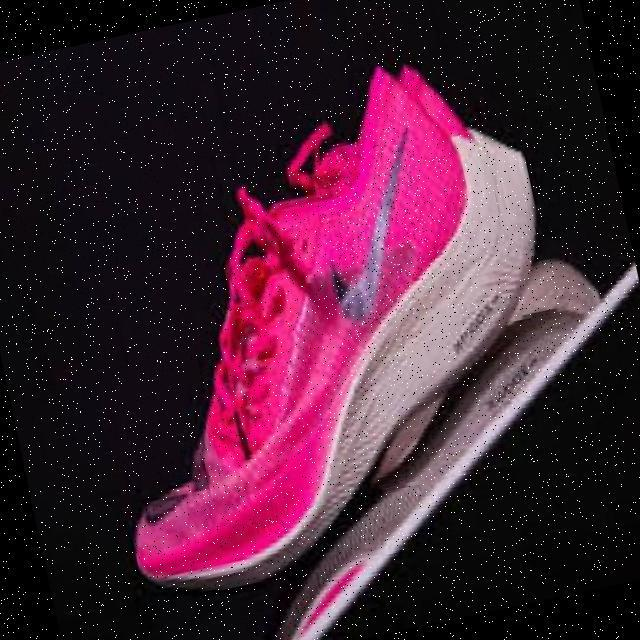Nike: (304, 120, 449, 327)
